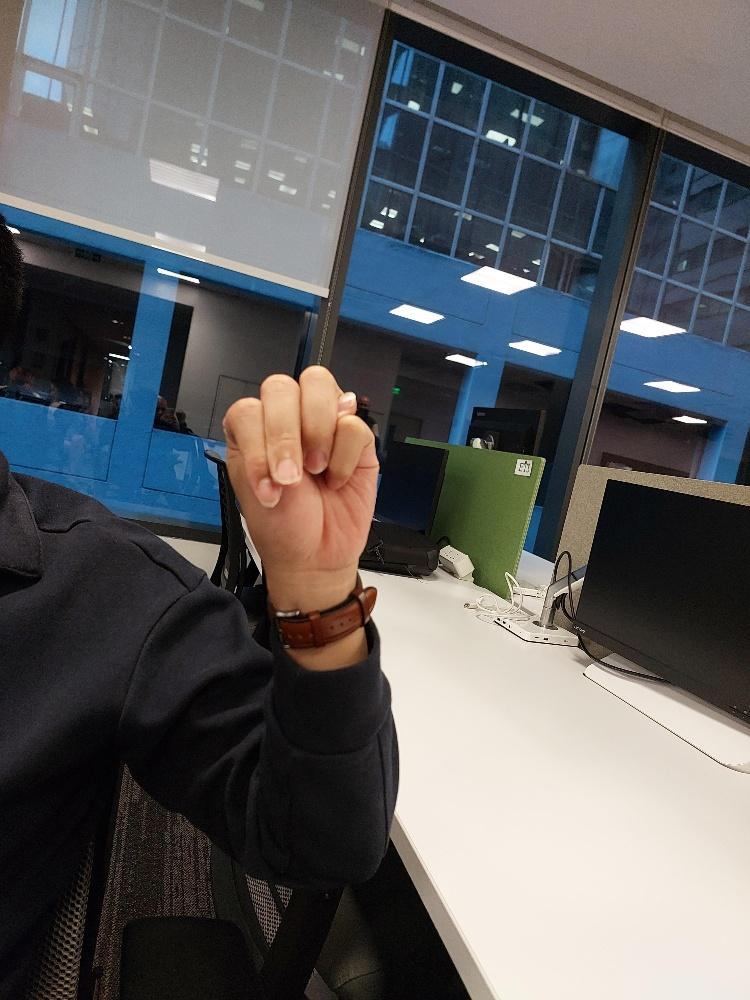m: (224, 362, 379, 555)
